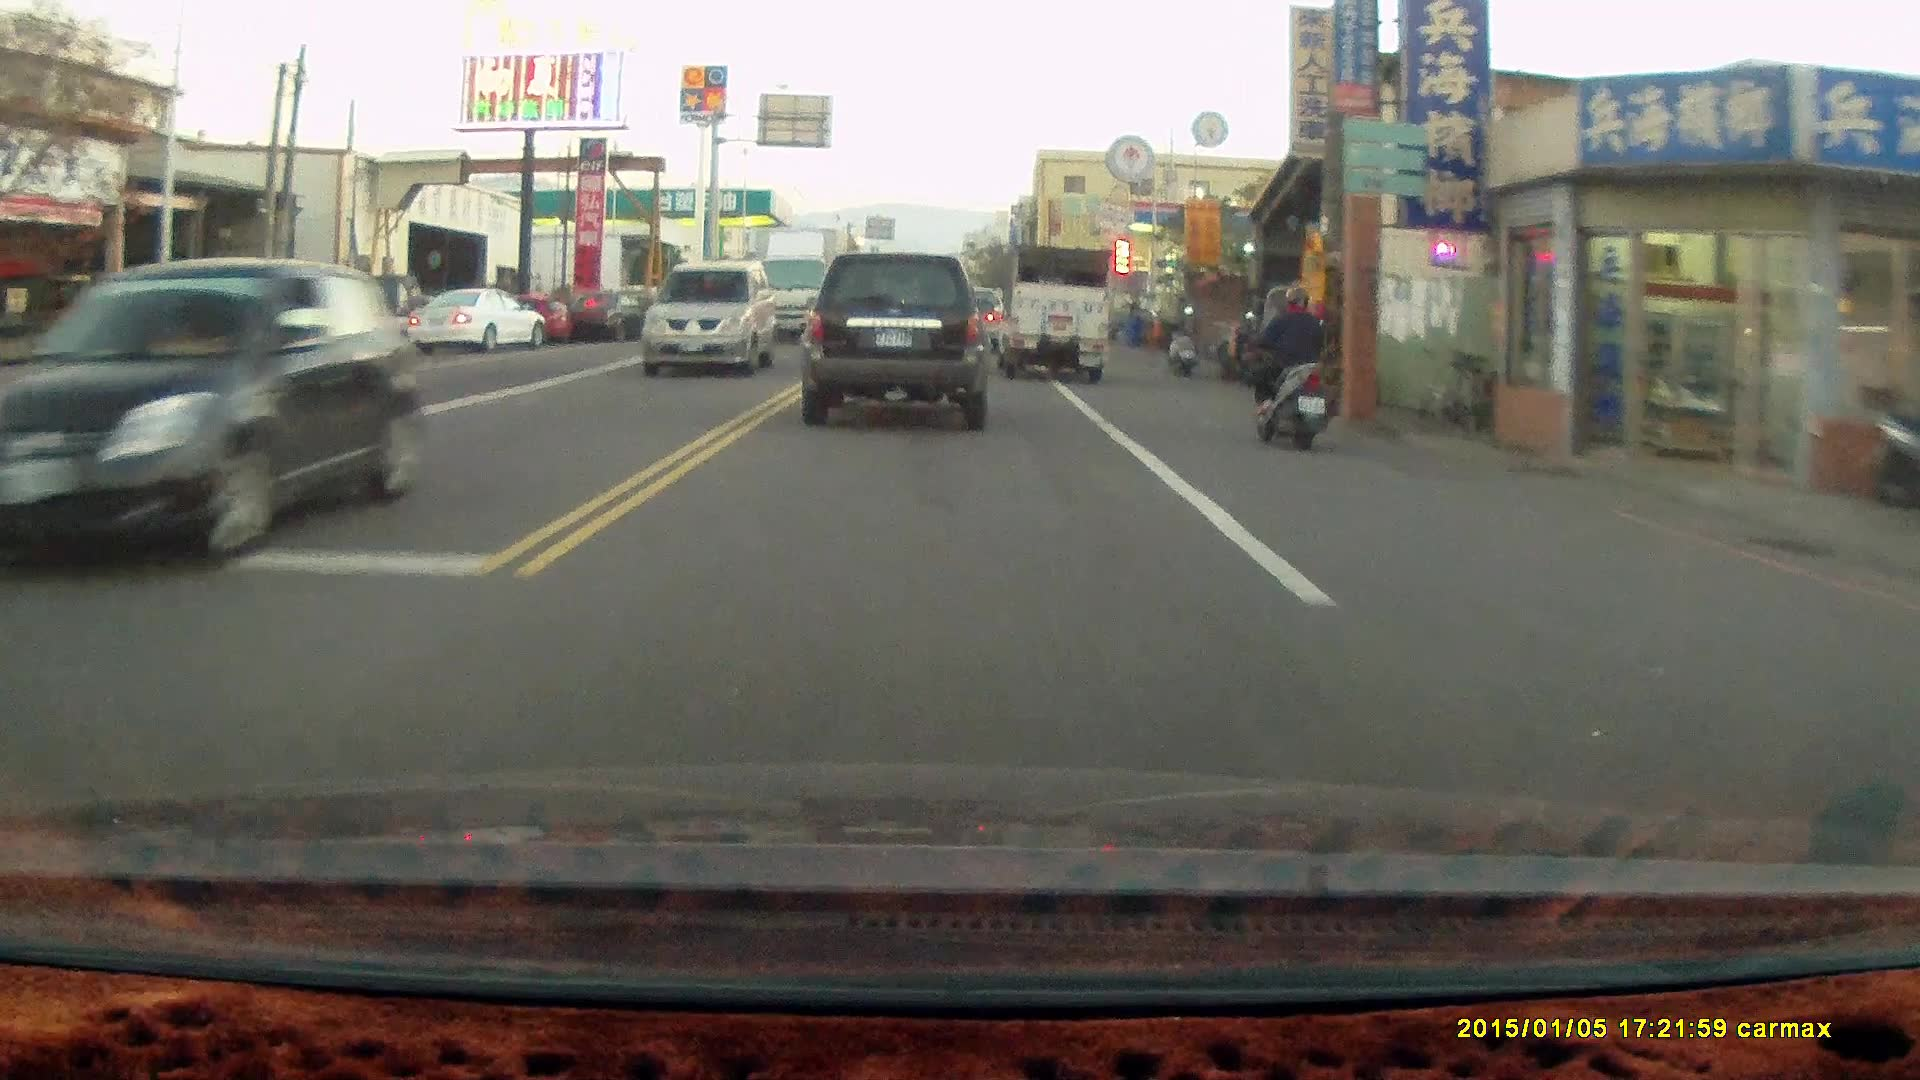rider: (1240, 281, 1334, 450)
vehicle: (26, 255, 429, 583), (801, 252, 995, 431), (994, 239, 1112, 382), (646, 260, 783, 376), (411, 284, 551, 358)
